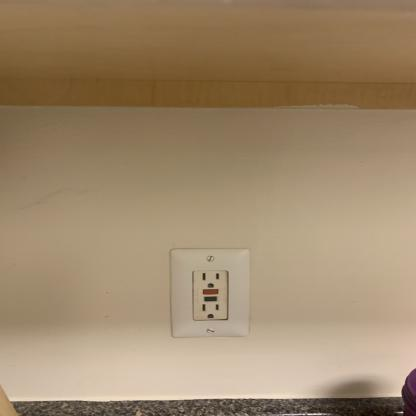OUTLET: (170, 247, 250, 338)
